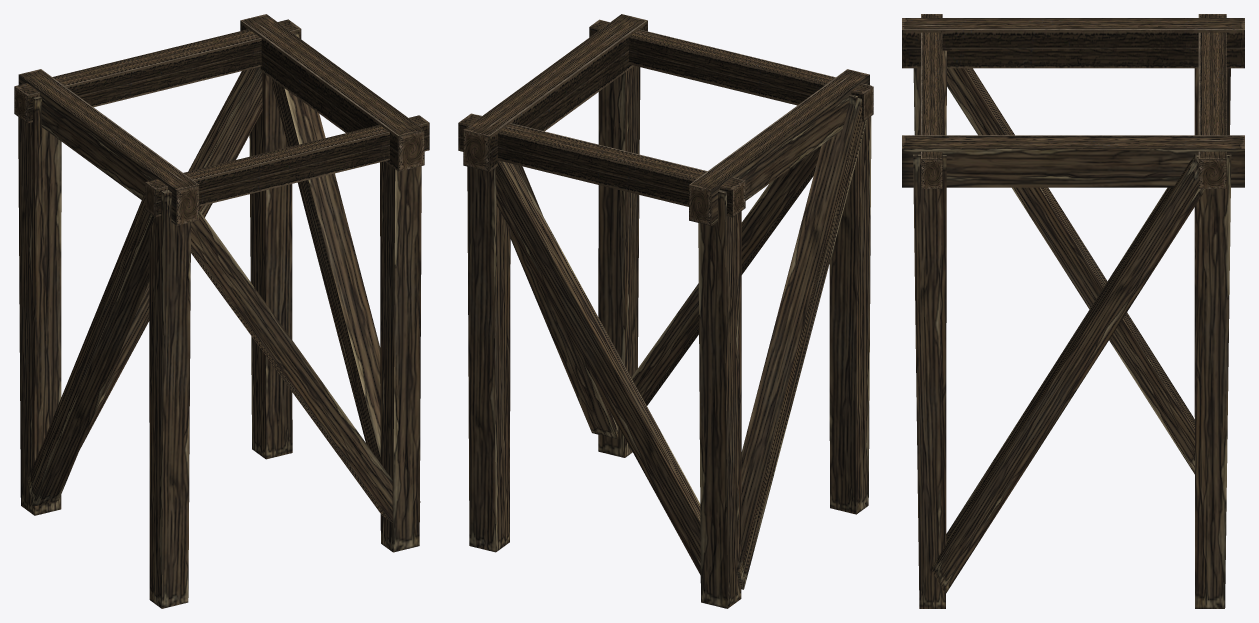
File: Wood_4X6X4_03.fbx
The picture shows the model from 3 angles, left to right: view 1: azimuth 30°, elevation 25°; view 2: azimuth 150°, elevation 25°; view 3: azimuth 270°, elevation 25°; orthographic projection. The views are drawn at different scales.
Parts seen in each view (by area): view 1: Wood_4X6X4_03; view 2: Wood_4X6X4_03; view 3: Wood_4X6X4_03.
Boxes of the visible parts, box(x1,y1,x2,y2) form: Wood_4X6X4_03: box(14, 14, 429, 608); Wood_4X6X4_03: box(458, 14, 873, 608); Wood_4X6X4_03: box(902, 14, 1244, 608).
Bounding box in the file's own units: 4 × 5.9 × 4.
